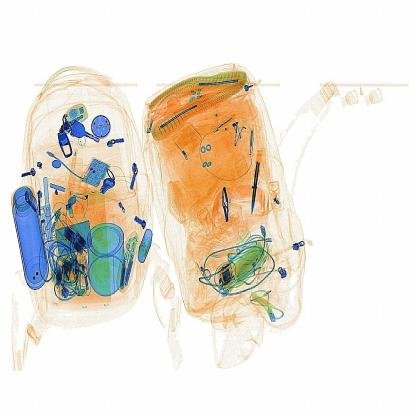gun: (245, 142, 271, 224)
